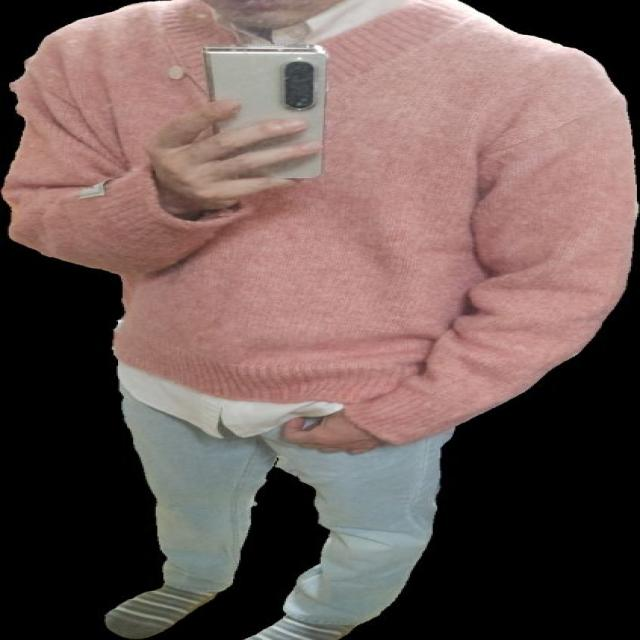denimpants: (107, 367, 454, 623)
sweater: (0, 0, 640, 447)
